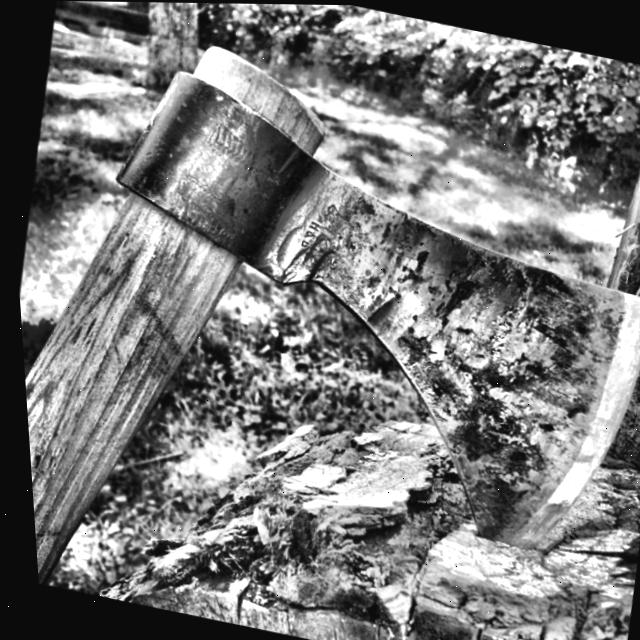kapak: (25, 33, 640, 587)
